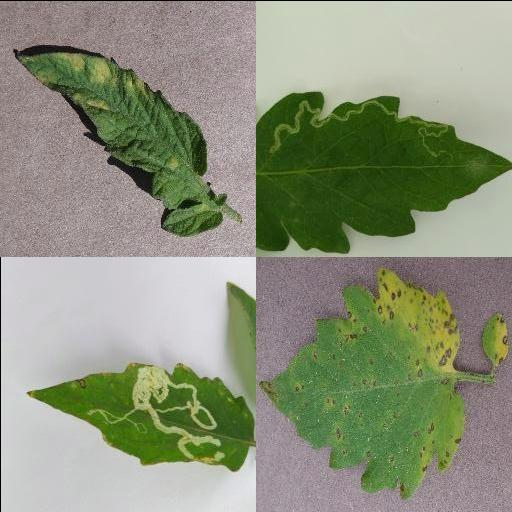Leaf Miner: (256, 88, 512, 253), (23, 359, 256, 472)
Leaf Mold: (15, 50, 223, 236)
Septoria: (258, 264, 466, 499), (480, 310, 510, 368)
